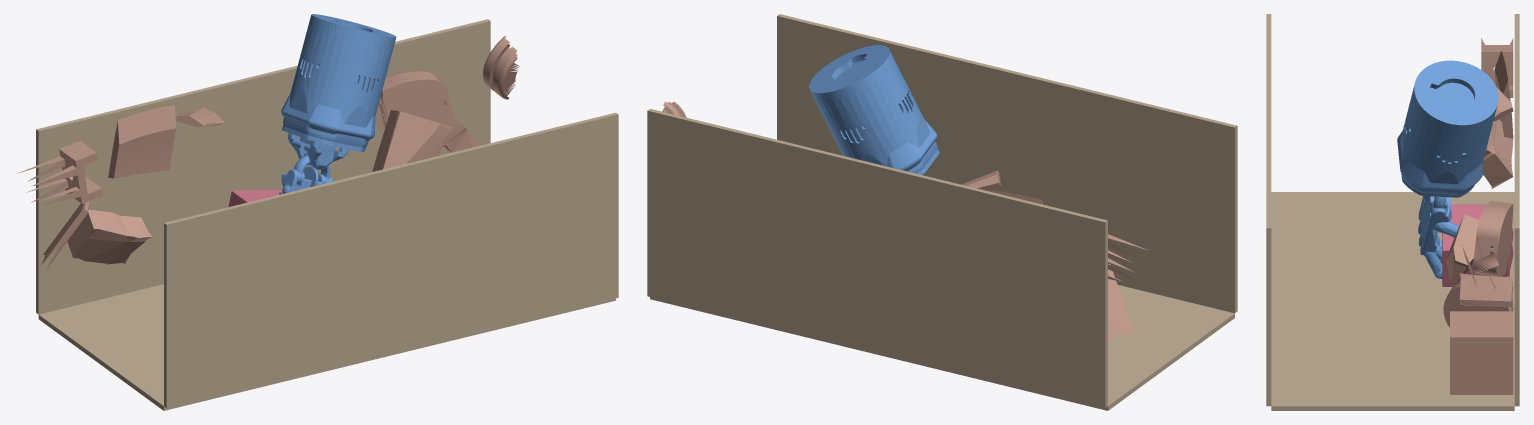
The picture shows the model from 3 angles, left to right: view 1: azimuth 30°, elevation 25°; view 2: azimuth 150°, elevation 25°; view 3: azimuth 270°, elevation 25°; orthographic projection. The views are drawn at different scales.
Visible parts, largest first — view 1: environment, hand, obstacle_008, obstacle_000, obstacle_005, obstacle_003, obstacle_007, obstacle_010, obstacle_009, obstacle_002, obstacle_001, world; view 2: environment, hand, obstacle_009, obstacle_007; view 3: environment, hand, obstacle_006, obstacle_005, obstacle_002, obstacle_000, obstacle_003, world, obstacle_007, obstacle_004, obstacle_008, obstacle_010 (+1 smaller).
Part boxes in pixels (<box>): environment: <box>36,19,618,410</box>; hand: <box>279,14,396,194</box>; obstacle_008: <box>108,105,176,178</box>; obstacle_000: <box>67,209,152,264</box>; obstacle_005: <box>375,70,452,135</box>; obstacle_003: <box>372,110,451,171</box>; obstacle_007: <box>17,140,103,204</box>; obstacle_010: <box>482,35,519,99</box>; obstacle_009: <box>41,201,89,269</box>; obstacle_002: <box>443,114,479,153</box>; obstacle_001: <box>176,107,224,127</box>; world: <box>228,189,282,206</box>; environment: <box>647,14,1237,410</box>; hand: <box>809,45,939,175</box>; obstacle_009: <box>1108,263,1134,341</box>; obstacle_007: <box>1108,234,1148,281</box>; environment: <box>1266,14,1519,410</box>; hand: <box>1397,60,1498,278</box>; obstacle_006: <box>1450,311,1513,394</box>; obstacle_005: <box>1473,200,1513,276</box>; obstacle_002: <box>1459,273,1513,307</box>; obstacle_000: <box>1482,119,1513,188</box>; obstacle_003: <box>1446,215,1479,285</box>; world: <box>1442,204,1513,286</box>; obstacle_007: <box>1481,38,1513,97</box>; obstacle_004: <box>1443,282,1513,327</box>; obstacle_008: <box>1494,51,1513,138</box>; obstacle_010: <box>1462,236,1498,289</box>.
Bounding box in the file's own units: 0.8558 × 0.4447 × 0.3998.
